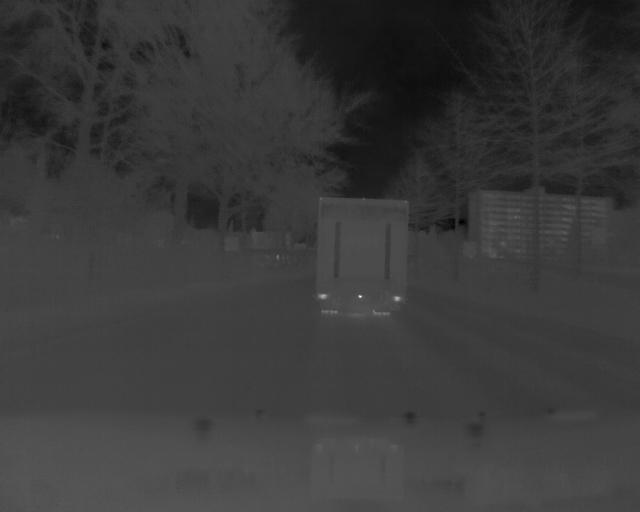car: (312, 194, 407, 327)
